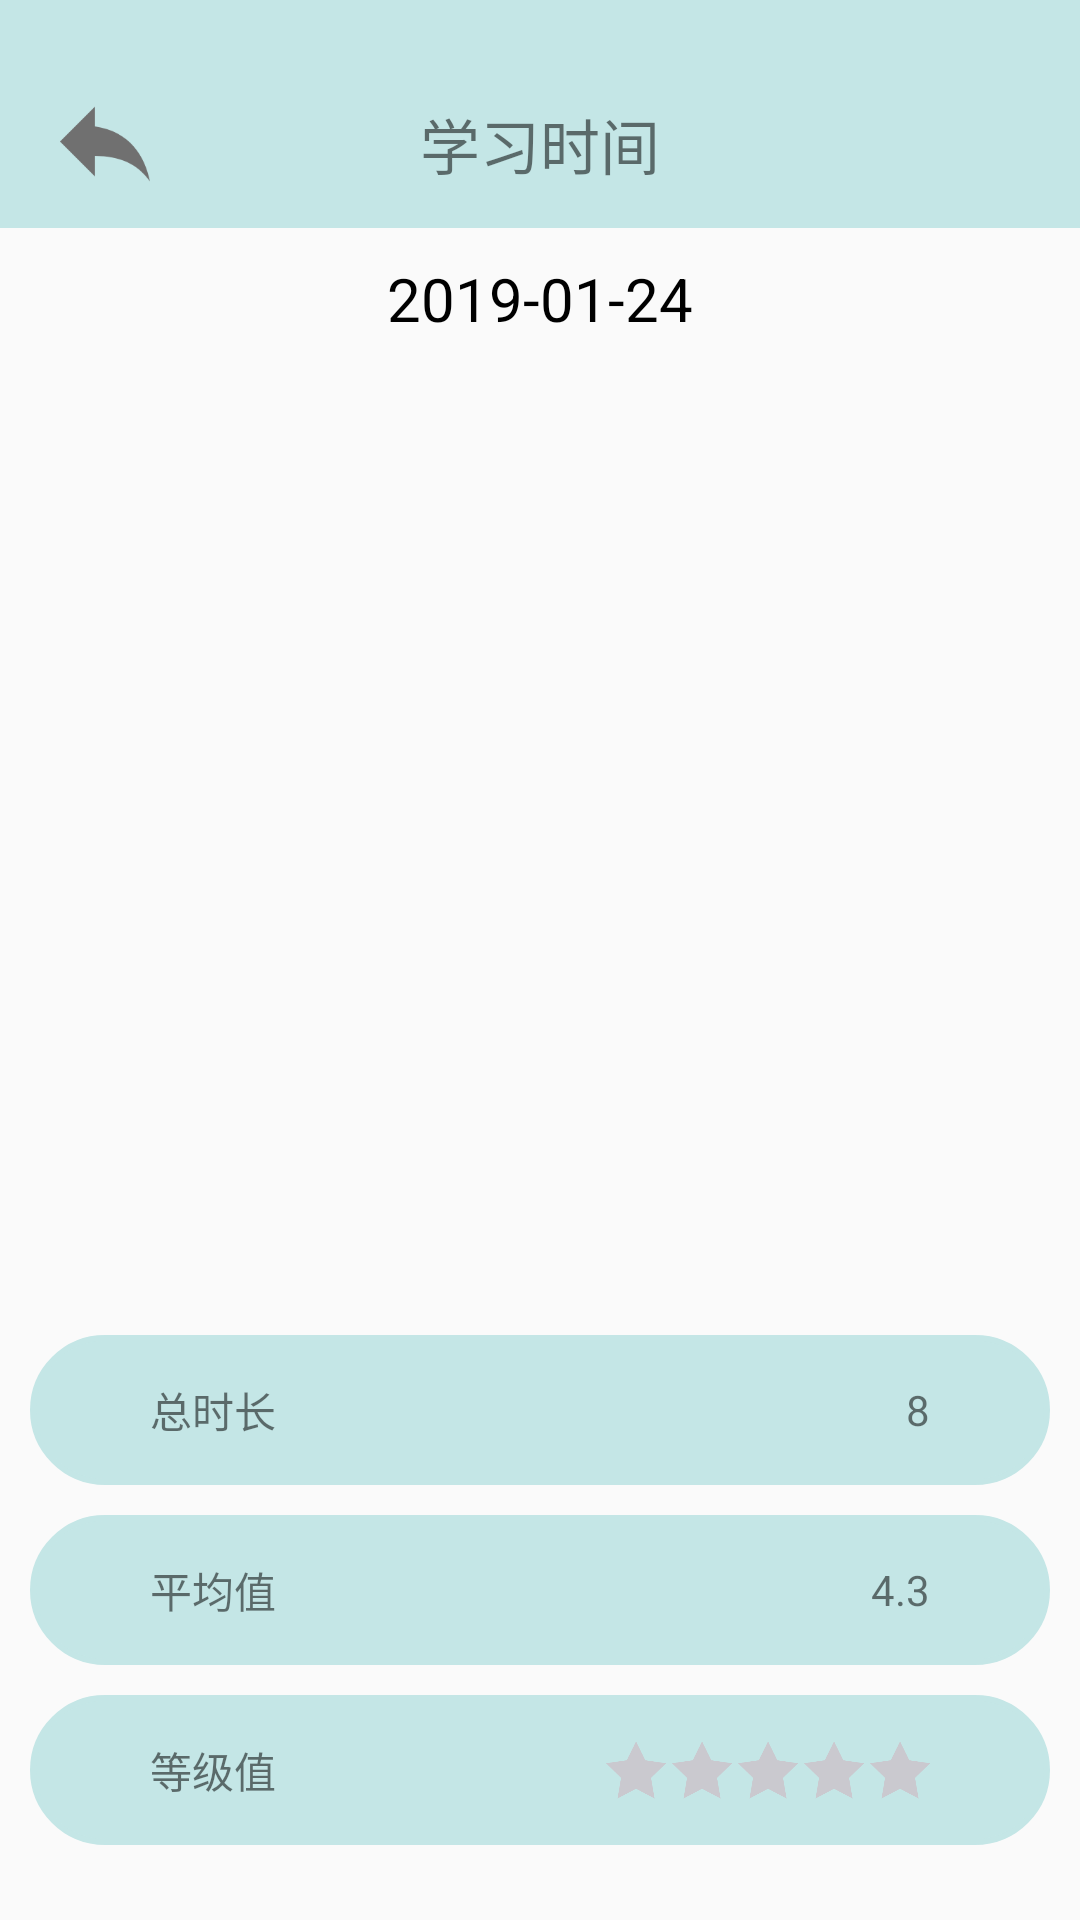

Where to tap for icons on this 1080px×1920px app screen, as (x,y):
back all: (105,144)
zero star: (636,1770), (702,1770), (768,1770), (834,1770), (900,1770)
